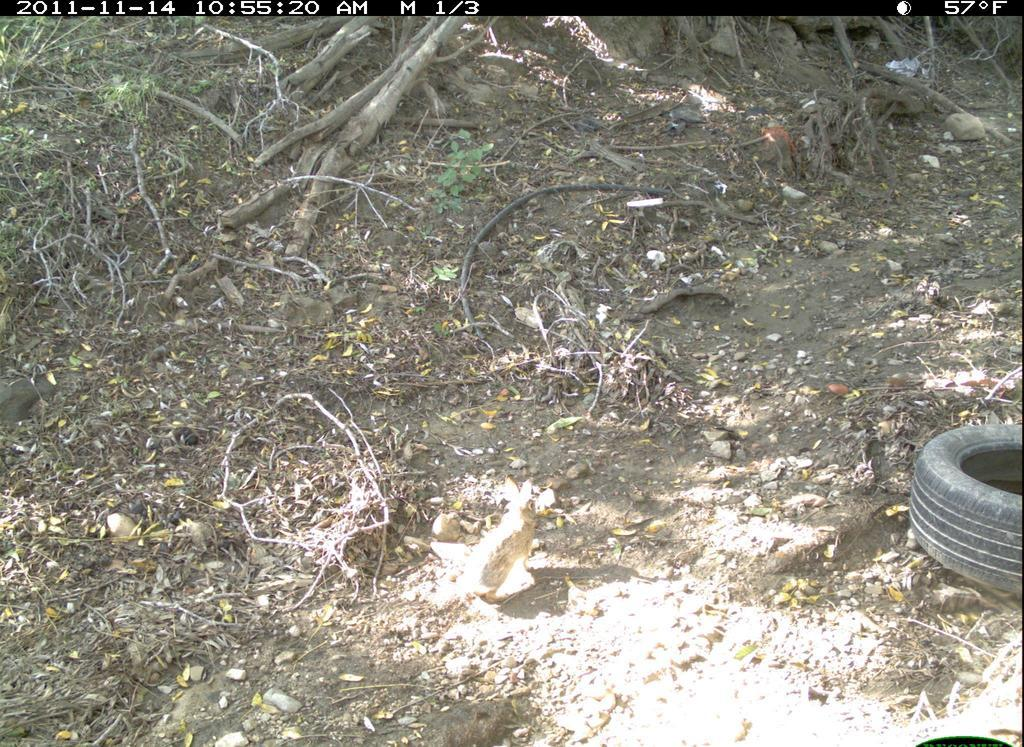rabbit: (455, 461, 562, 616)
